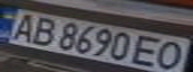0: (109, 29, 136, 62)
6: (72, 24, 96, 55)
8: (51, 20, 81, 52)
9: (90, 26, 115, 60)
A: (3, 11, 42, 43)
B: (24, 15, 63, 47)
E: (130, 33, 166, 67)
O: (148, 38, 190, 71)
